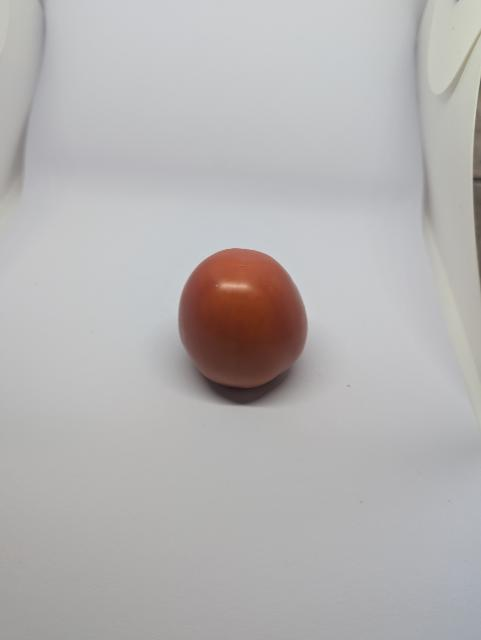red: (168, 239, 327, 398)
